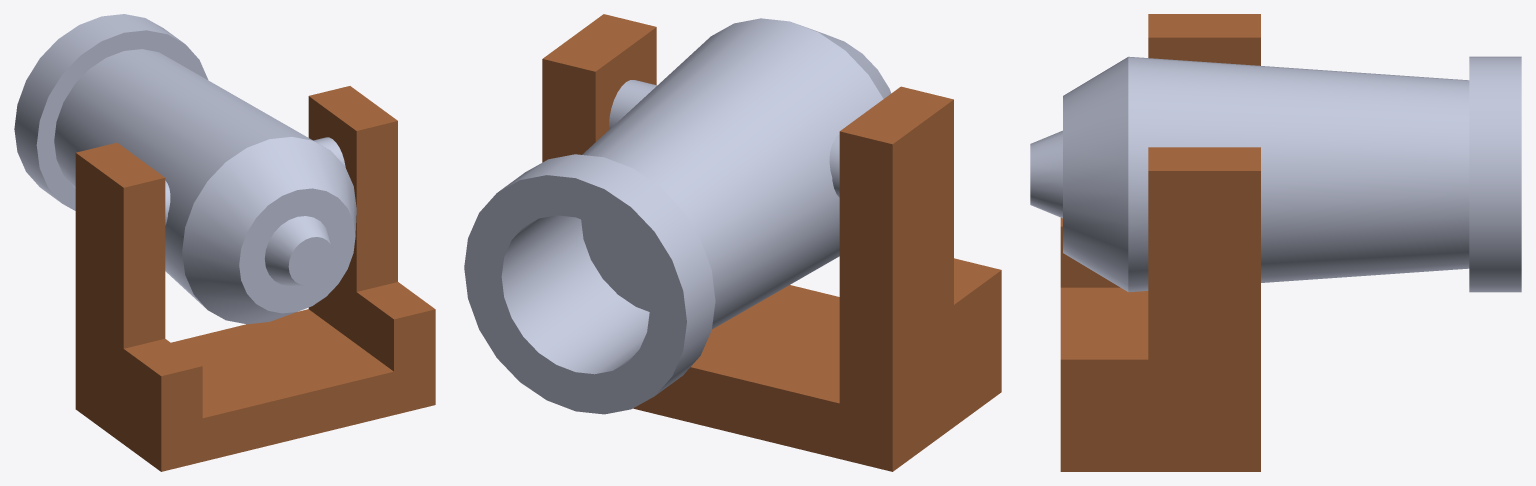
The model's file is cannon.glb.
3 views of the same model, side by side, from view 1: azimuth 30°, elevation 25°; view 2: azimuth 150°, elevation 25°; view 3: azimuth 270°, elevation 25° (orthographic). The views are drawn at different scales.
Visible parts, largest first — view 1: cannon, barrelCannon; view 2: barrelCannon, cannon; view 3: barrelCannon, cannon.
Boxes of the visible parts, x1=… form: cannon: x1=75, y1=86, x2=435, y2=471; barrelCannon: x1=14, y1=14, x2=356, y2=324; barrelCannon: x1=464, y1=18, x2=891, y2=414; cannon: x1=542, y1=14, x2=1001, y2=471; barrelCannon: x1=1030, y1=56, x2=1521, y2=292; cannon: x1=1060, y1=14, x2=1260, y2=471.
Bounding box in the file's own units: 0.4345 × 0.4208 × 0.5748.
